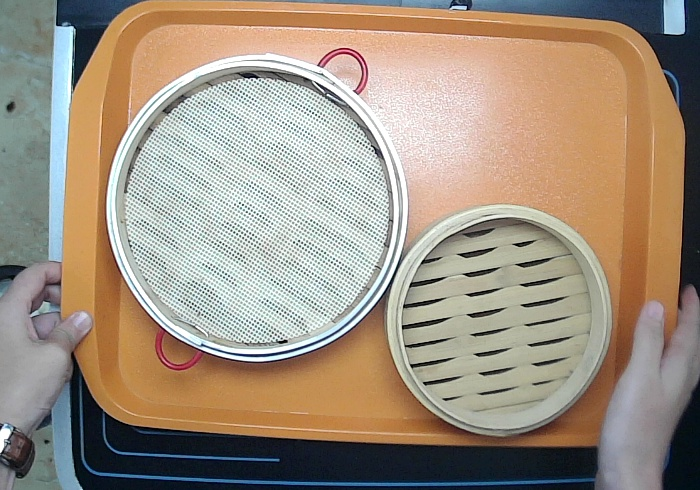ZNLD-Da_Zheng_Long: (104, 44, 406, 374)
ZNLD-Xiao_Zheng_Long: (382, 210, 626, 437)
